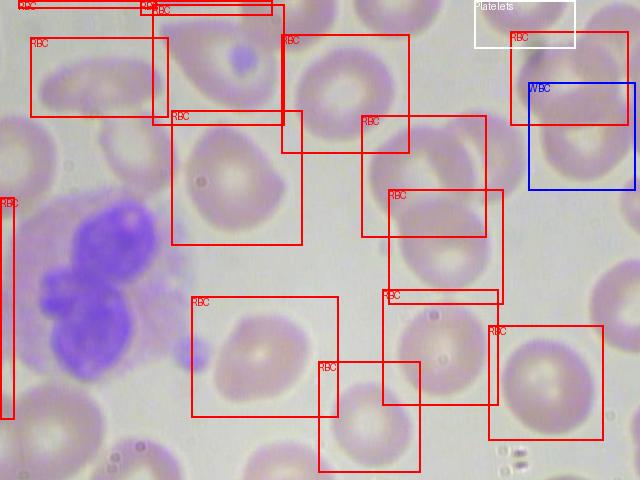Platelets: (474, 0, 575, 48)
RBC: (191, 296, 338, 417), (171, 110, 302, 245), (152, 4, 284, 125), (361, 115, 486, 237), (281, 34, 409, 153), (382, 289, 498, 405), (488, 325, 603, 440), (388, 189, 503, 304), (318, 361, 420, 472), (510, 31, 628, 125), (30, 37, 168, 117), (0, 197, 14, 419), (140, 0, 272, 15), (18, 0, 156, 8)
WBC: (528, 82, 635, 190)
